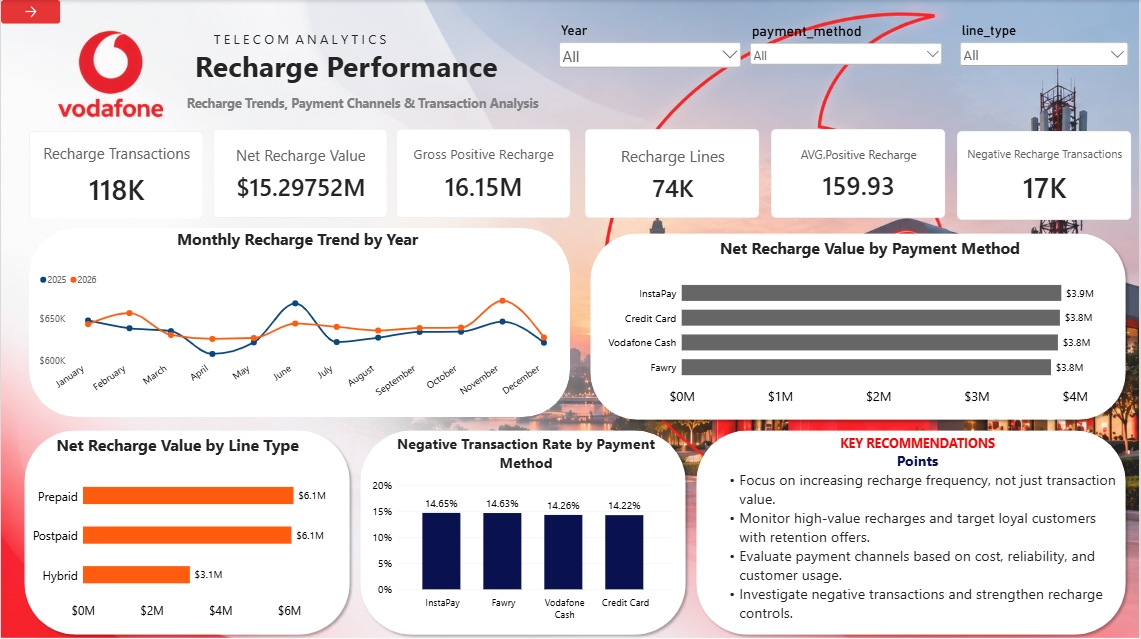

What the dashboard file says about the page in this screenshot:
{"tool":"powerbi","page":{"name":"Recharge Performance","canvas":[1920,1080],"ordinal":3},"visuals":[{"type":"textbox","box":[283.5,50.6,442.1,54],"z":0},{"type":"textbox","box":[327.4,77.6,632.8,81],"z":1000},{"type":"textbox","box":[283.5,158.6,653.1,47.2],"z":2000},{"type":"cardVisual","fields":{"Data":["DAXX Measures.Recharge Transactions"]},"box":[47.6,221.1,294.2,149.7],"z":3000},{"type":"cardVisual","fields":{"Data":["DAXX Measures.Net Recharge Value"]},"box":[357.1,217.7,294,150.2],"z":4000},{"type":"cardVisual","fields":{"Data":["DAXX Measures.Gross Positive Recharge Value"]},"box":[666.6,217.7,294,150.2],"z":5000},{"type":"cardVisual","fields":{"Data":["DAXX Measures.Recharge Lines"]},"box":[984.7,217.7,294,150.2],"z":6000},{"type":"cardVisual","fields":{"Data":["DAXX Measures.Average Positive Recharge Value"]},"box":[1299.3,217.7,294,150.2],"z":7000},{"type":"shape","box":[47.2,384.8,912.9,318.9],"z":8000},{"type":"textbox","box":[0,384.8,1000.7,57.4],"z":9000},{"type":"cardVisual","fields":{"Data":["DAXX Measures.Negative Recharge Transactions"]},"box":[1613.9,221.1,294,150.2],"z":10000},{"type":"shape","box":[985.5,384.8,921.4,332.4],"z":11000},{"type":"textbox","box":[1079.9,399.6,772.1,62.9],"z":12000},{"type":"shape","box":[30.4,717.2,567,362.8],"z":13000},{"type":"textbox","box":[72.6,732.4,450.6,40.5],"z":14000},{"type":"lineChart","fields":{"Category":["DimDate.MonthName"],"Series":["DimDate.Year"],"Y":["DAXX Measures.Net Recharge Value"]},"box":[48.9,442.1,911.2,261.6],"z":15000},{"type":"clusteredBarChart","fields":{"Category":["FactRecharges.payment_method"],"Y":["DAXX Measures.Net Recharge Value"]},"box":[1000.7,442.1,882.6,261.6],"z":16000},{"type":"clusteredBarChart","fields":{"Category":["DimSubscription.line_type"],"Y":["DAXX Measures.Net Recharge Value"]},"box":[30.4,772.9,555.2,293.6],"z":17000},{"type":"shape","box":[597.4,717.2,567,362.8],"z":18000},{"type":"textbox","box":[626.1,732.4,519.8,74.2],"z":19000},{"type":"clusteredColumnChart","fields":{"Category":["FactRecharges.payment_method"],"Y":["DAXX Measures.Negative Transaction Rate %"]},"box":[610.9,791.4,534.9,275.1],"z":20000},{"type":"shape","box":[1164.4,717.2,742.5,362.8],"z":21000},{"type":"textbox","box":[1209.9,732.4,673.3,347.6],"z":22000},{"type":"slicer","fields":{"Values":["DimDate.Year"]},"box":[936.6,38.8,317.2,102.9],"z":22001},{"type":"slicer","fields":{"Values":["FactRecharges.payment_method"]},"box":[1258.9,38.8,334.1,75.9],"z":22002},{"type":"slicer","fields":{"Values":["DimSubscription.line_type"]},"box":[1613.2,38.8,293.6,89.4],"z":22003},{"type":"actionButton","box":[0,0,100,40],"z":22004}]}

Visuals, with their boxes in screenshot pixels (x1, y1, x2, y2), scaled from the page's 1920x1080 canvas onto the 1141x639 screenshot:
textbox: locate(168, 30, 431, 62)
textbox: locate(195, 46, 571, 94)
textbox: locate(168, 94, 557, 122)
cardVisual - DAXX Measures.Recharge Transactions: locate(28, 131, 203, 219)
cardVisual - DAXX Measures.Net Recharge Value: locate(212, 129, 387, 218)
cardVisual - DAXX Measures.Gross Positive Recharge Value: locate(396, 129, 571, 218)
cardVisual - DAXX Measures.Recharge Lines: locate(585, 129, 760, 218)
cardVisual - DAXX Measures.Average Positive Recharge Value: locate(772, 129, 947, 218)
shape: locate(28, 228, 571, 416)
textbox: locate(0, 228, 595, 262)
cardVisual - DAXX Measures.Negative Recharge Transactions: locate(959, 131, 1134, 220)
shape: locate(586, 228, 1133, 424)
textbox: locate(642, 236, 1101, 274)
shape: locate(18, 424, 355, 638)
textbox: locate(43, 433, 311, 457)
lineChart - DimDate.MonthName x DimDate.Year: locate(29, 262, 571, 416)
clusteredBarChart - FactRecharges.payment_method x DAXX Measures.Net Recharge Value: locate(595, 262, 1119, 416)
clusteredBarChart - DimSubscription.line_type x DAXX Measures.Net Recharge Value: locate(18, 457, 348, 631)
shape: locate(355, 424, 692, 638)
textbox: locate(372, 433, 681, 477)
clusteredColumnChart - FactRecharges.payment_method x DAXX Measures.Negative Transaction Rate %: locate(363, 468, 681, 631)
shape: locate(692, 424, 1133, 638)
textbox: locate(719, 433, 1119, 638)
slicer - DimDate.Year: locate(557, 23, 745, 84)
slicer - FactRecharges.payment_method: locate(748, 23, 947, 68)
slicer - DimSubscription.line_type: locate(959, 23, 1133, 76)
actionButton: locate(0, 0, 59, 24)
